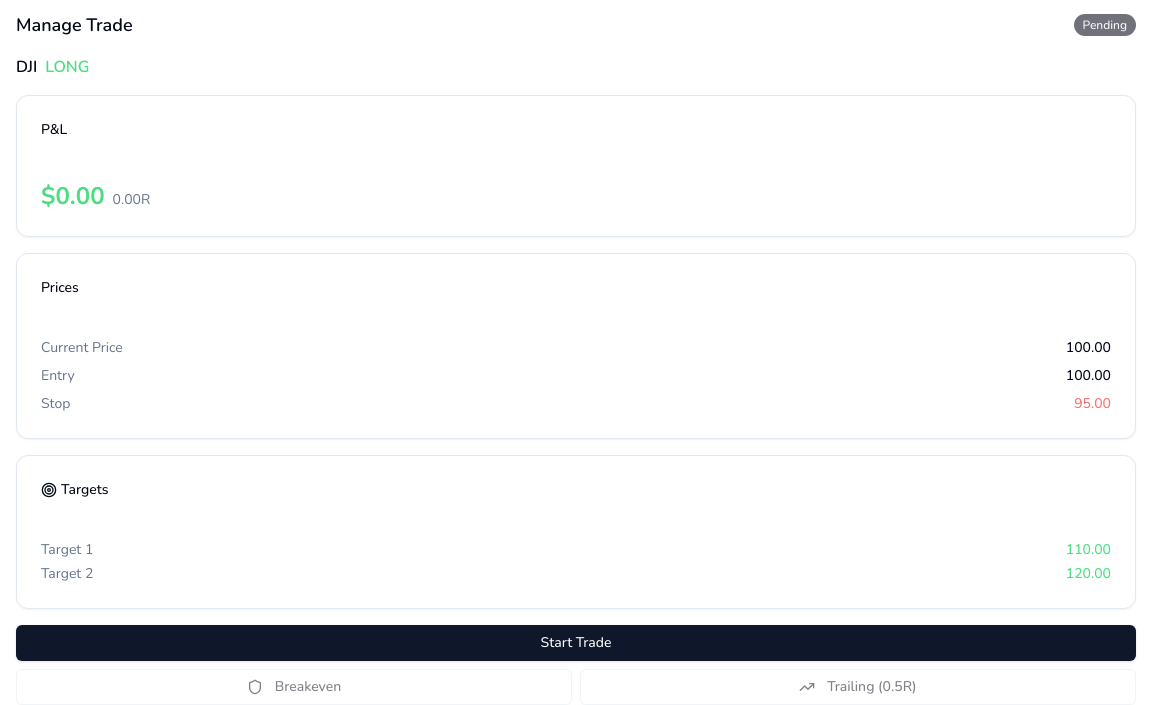
Test: ManagePanel › trailing stop button › should show trailing stop price after enabling
Step 1. Click the button "Start Trade" → click(576, 643), box [16,625,1136,661]
(page scrolled)
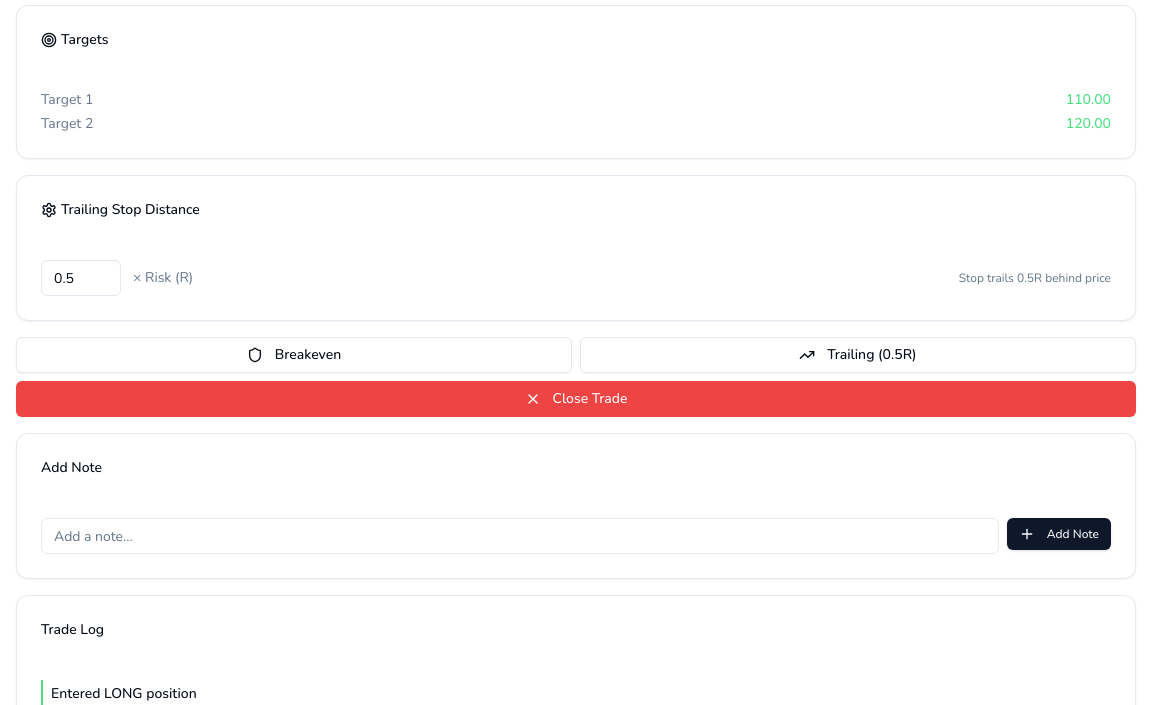
Step 2. Click the button "Trailing (0.5R)" → click(858, 355), box [580,337,1136,373]
(page scrolled)
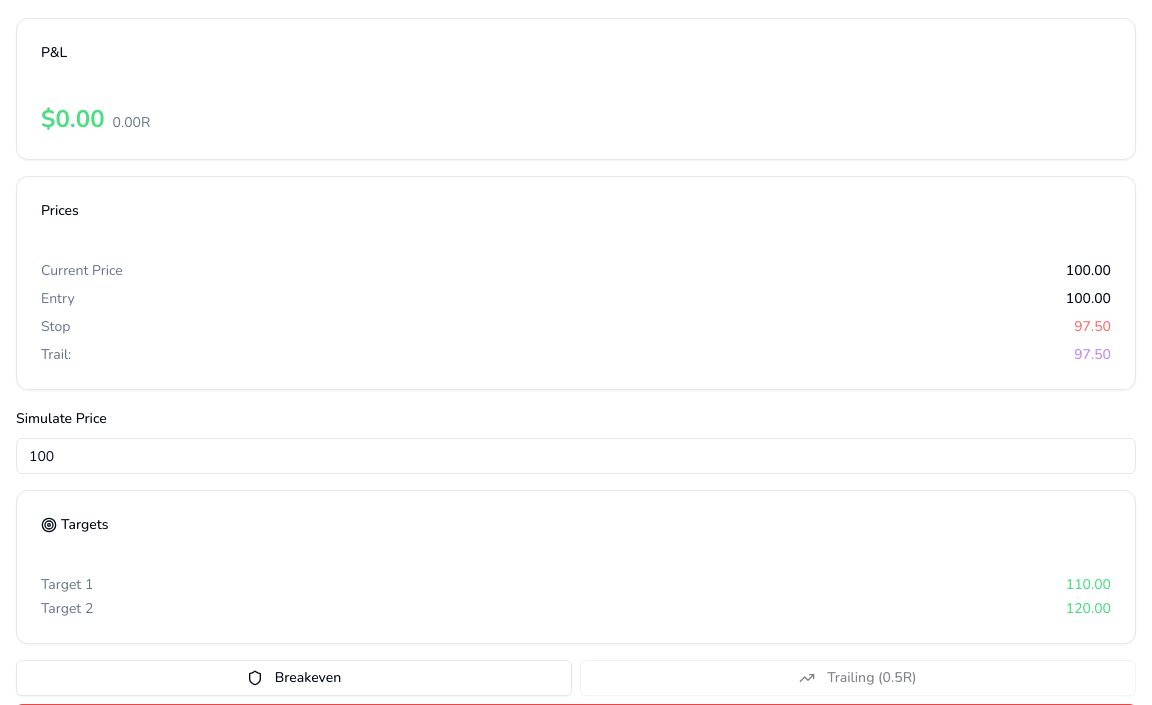
Expected: the text "Trail:" is shown, [41,345,71,365]
